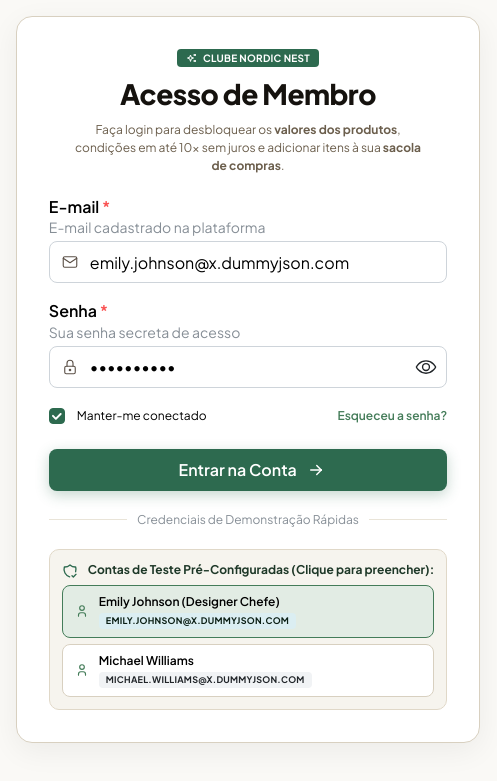
Test: LoginPage - Testes de Componente e Formulário › deve exibir mensagem de validação Zod quando a senha for muito curta
Type "12" into the password field labelled "Senha *".
click(248, 367); type("12")  # box [50, 347, 446, 387]
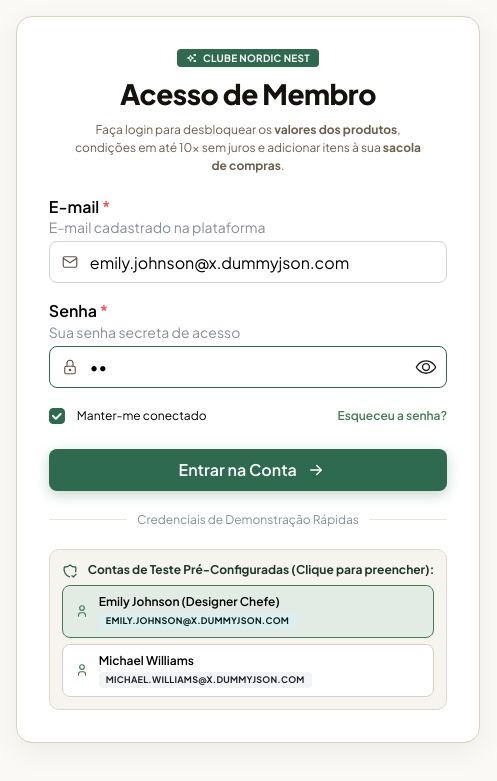
Click the button "Entrar na Conta".
click(248, 470)  # box [49, 449, 447, 491]
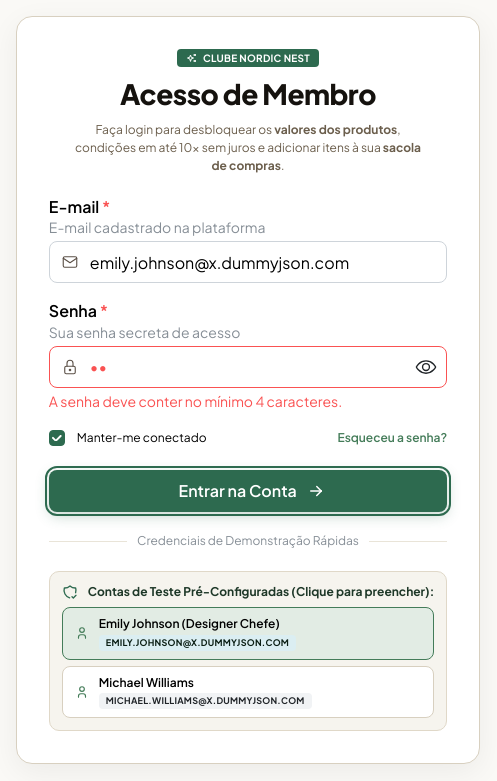
Expected: the text "A senha deve conter no mínimo 4 caracteres." is shown, [49, 392, 342, 410]
